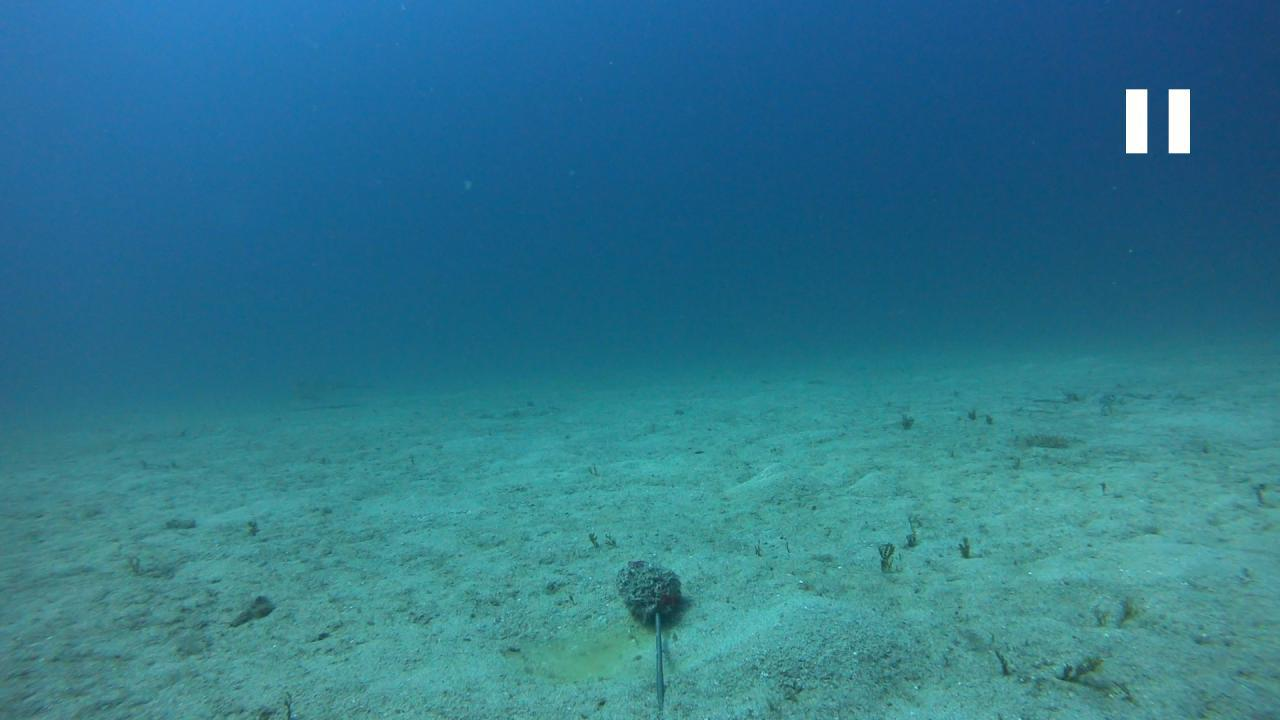dasyatis: (288, 375, 373, 399)
